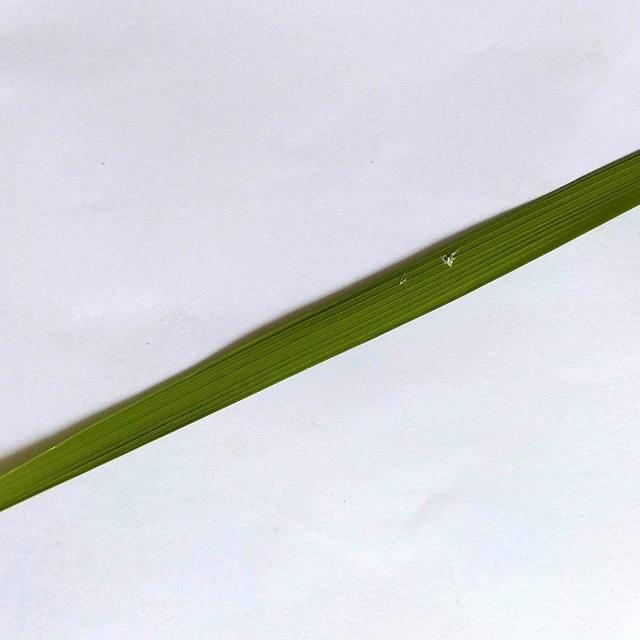healthy: (0, 144, 640, 526)
